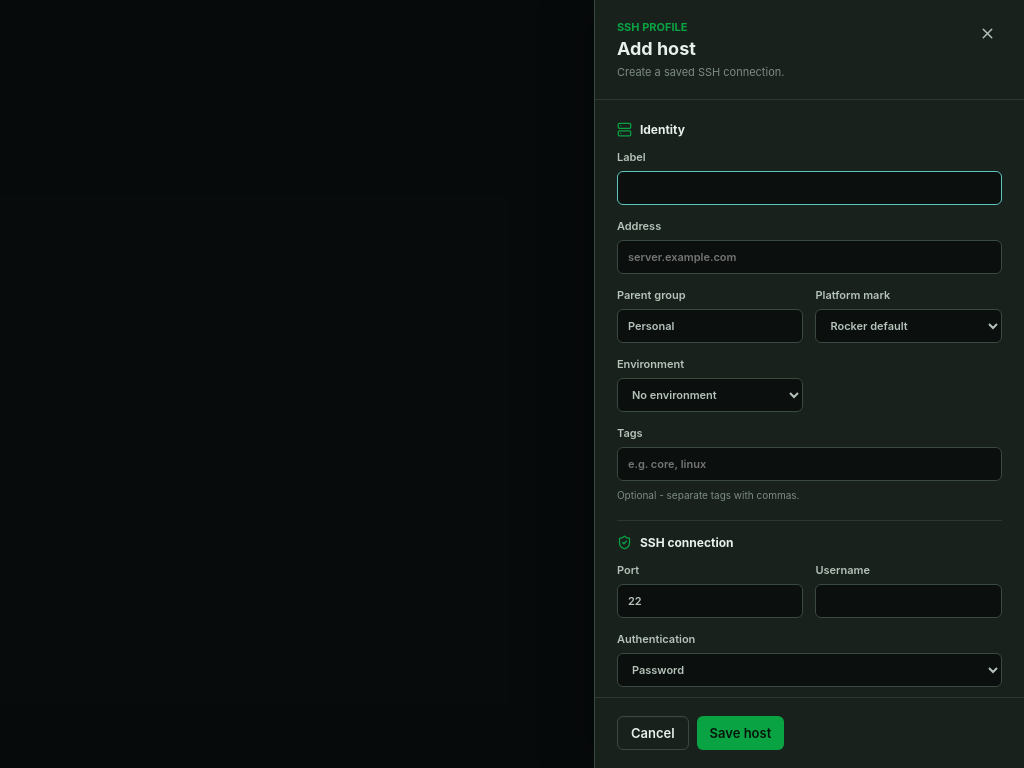
HostEditor › keeps the editor open and shows a safe error when saving fails
The image size is (1024, 768).
Step 1. Type "Build host" into the field labelled "Label" → (809, 188), box [617,171,1002,205]
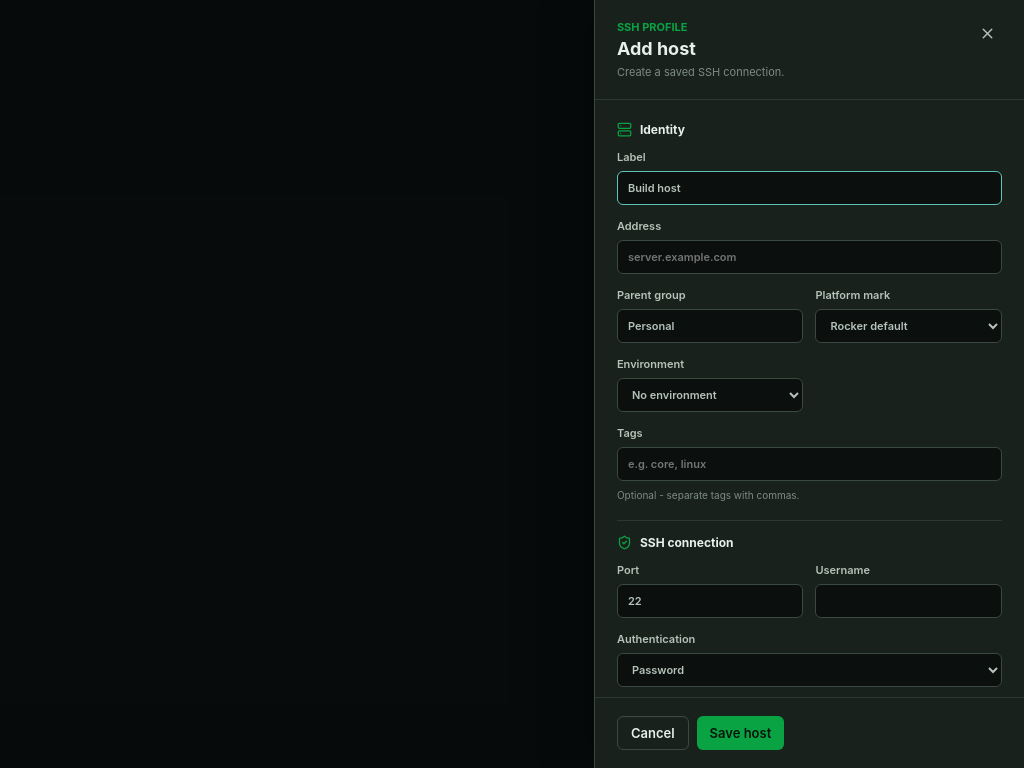
Step 2. Type "server.example.test" into the field labelled "Address" → (809, 257), box [617,240,1002,274]
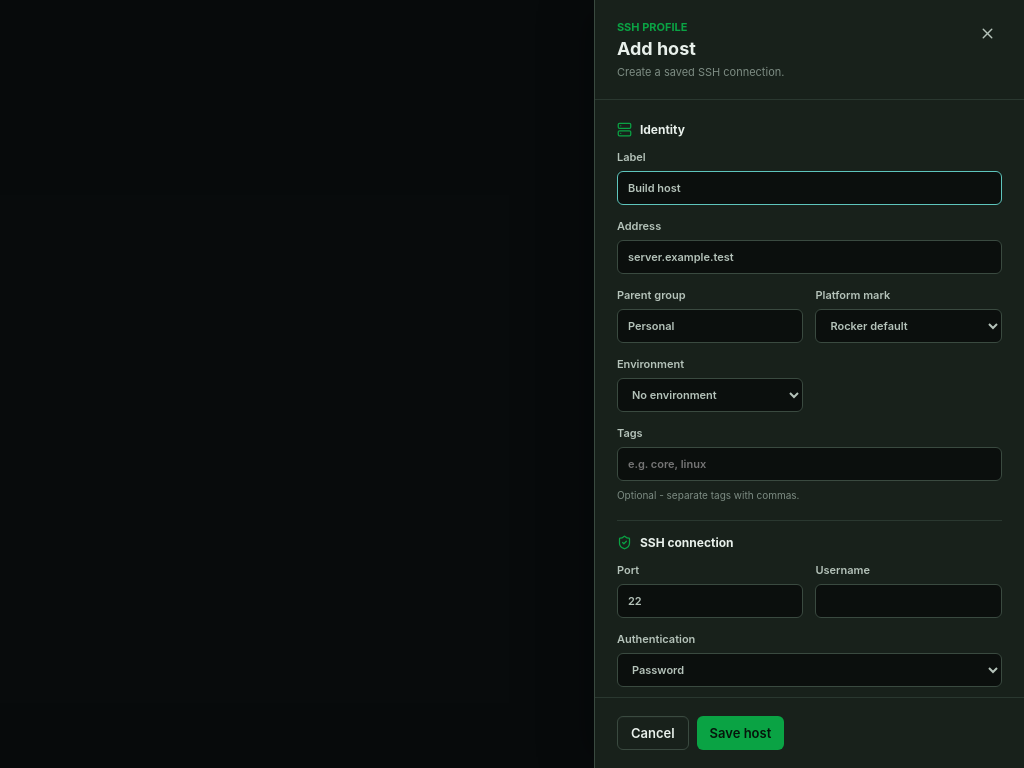
Step 3. Type "deploy" into the field labelled "Username" → (909, 601), box [816,584,1002,618]
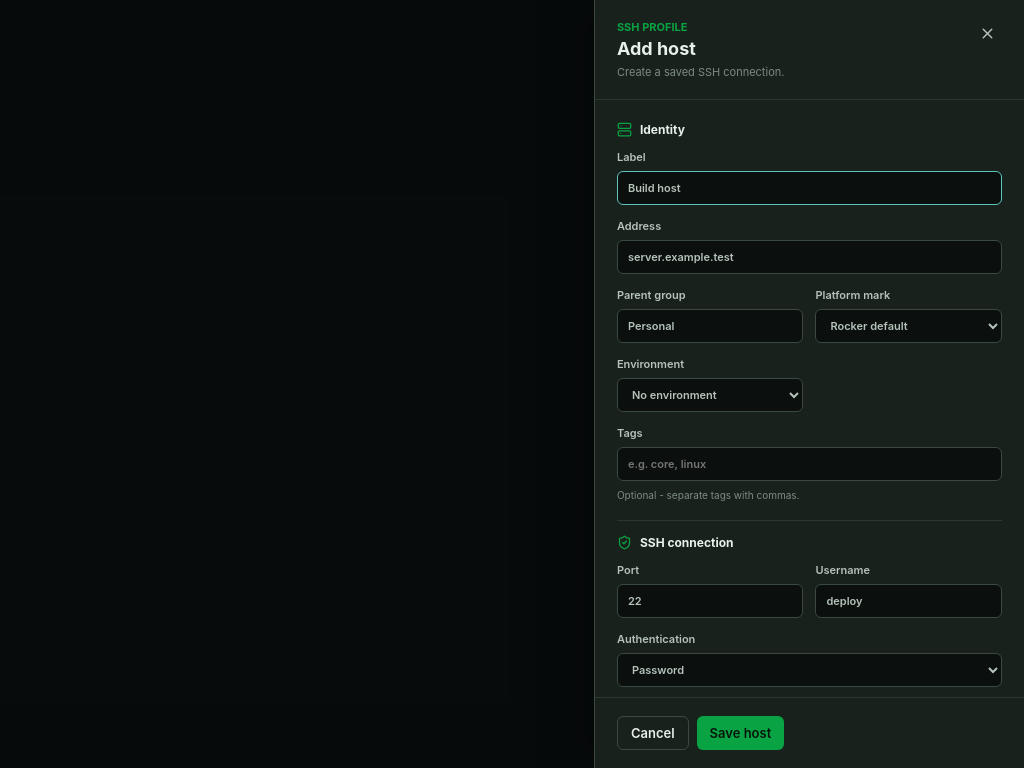
Step 4. Click the button "Save host" → (740, 733), box [697,716,784,750]
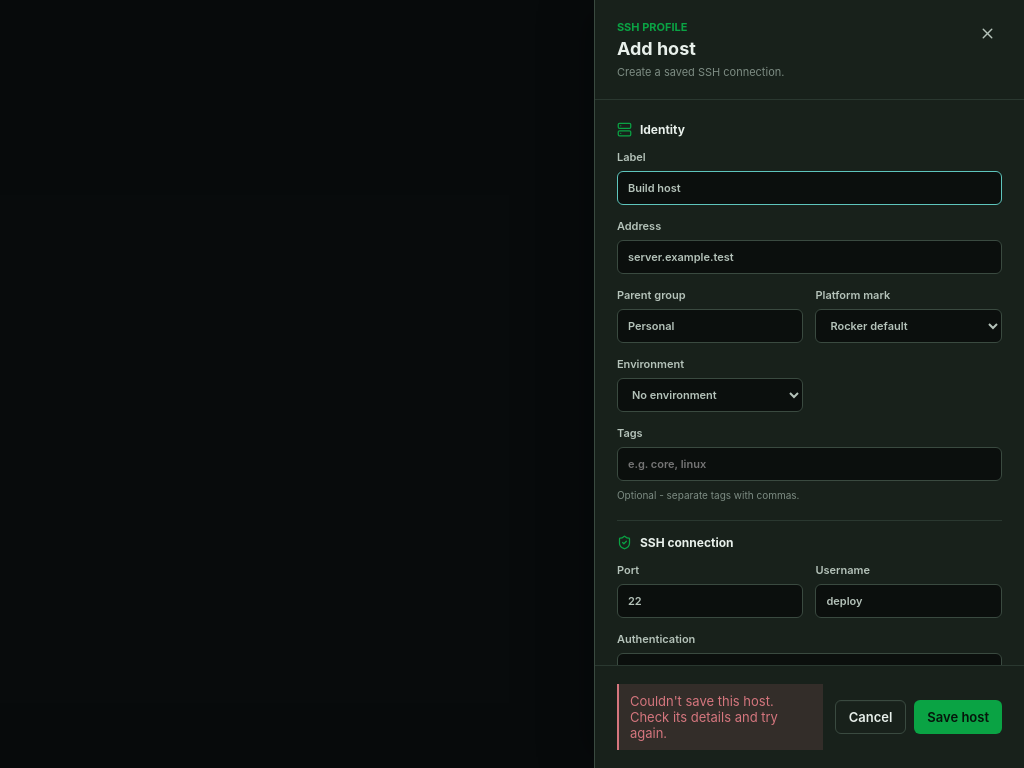
Now the message shows "Couldn't save this host", box [630,693,778,741]
